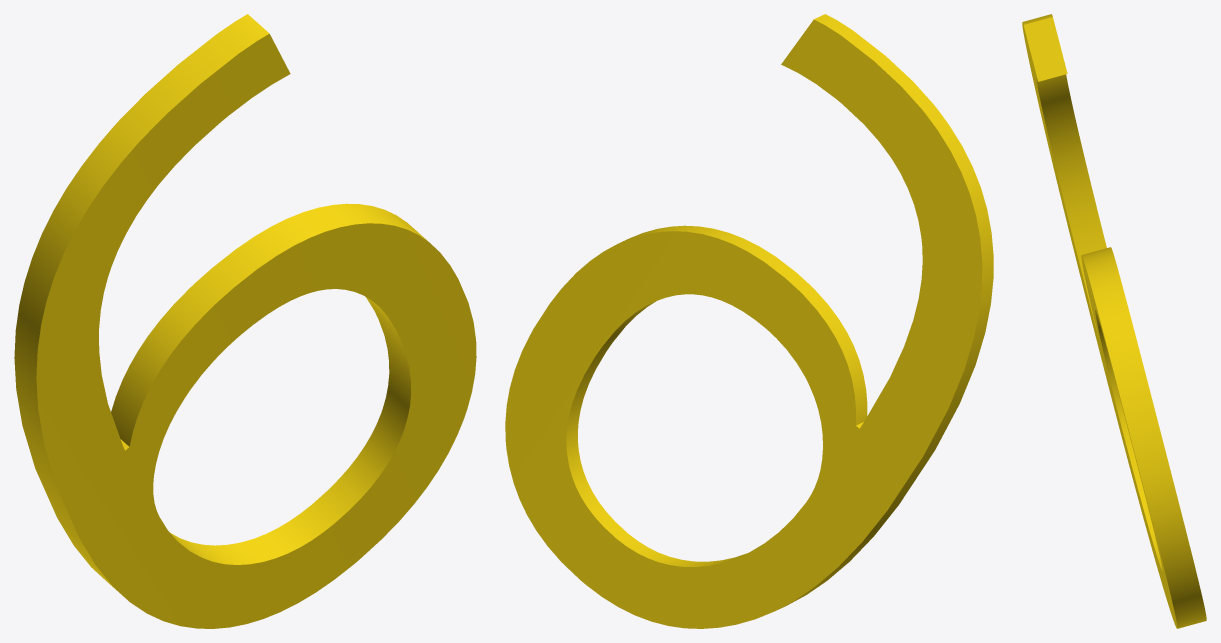
Rendered from Number_6.gltf.
3 renders of one model, left to right at view 1: azimuth 30°, elevation 25°; view 2: azimuth 150°, elevation 25°; view 3: azimuth 270°, elevation 25°, orthographic. The views are drawn at different scales.
Visible parts, largest first — view 1: Sub_3_Cell_2_2_Number_6; view 2: Sub_3_Cell_2_2_Number_6; view 3: Sub_3_Cell_2_2_Number_6.
Boxes of the visible parts, x1,y1,x2,y2 form: Sub_3_Cell_2_2_Number_6: [14, 14, 476, 628]; Sub_3_Cell_2_2_Number_6: [505, 14, 993, 628]; Sub_3_Cell_2_2_Number_6: [1022, 14, 1206, 628].
Bounding box in the file's own units: 0.02 × 0.0259 × 0.00771.
